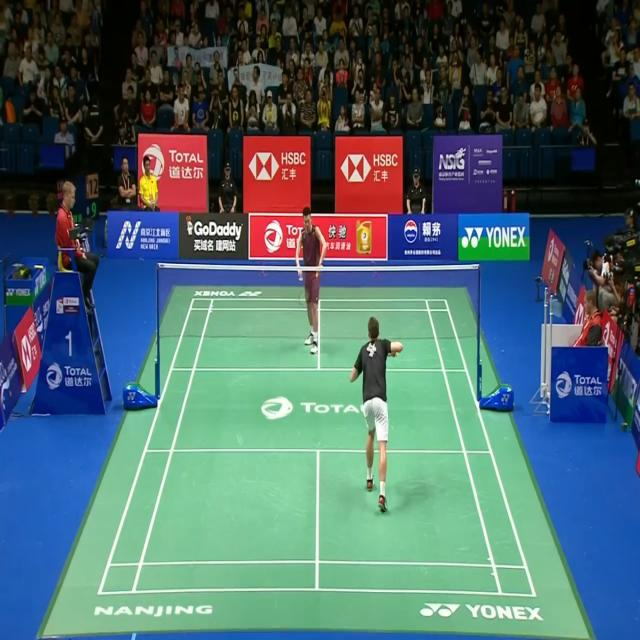Player1: (348, 311, 406, 518)
Player2: (294, 203, 327, 361)
